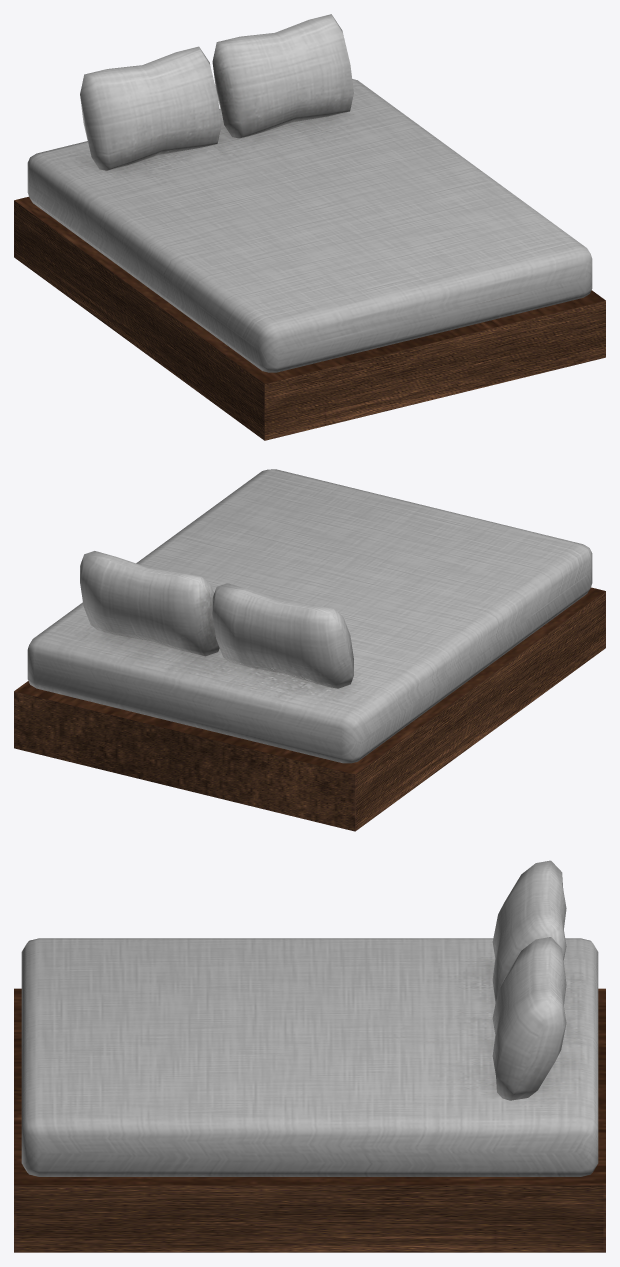
The model's file is bed.fbx.
3 views of the same model, one above another, from view 1: azimuth 30°, elevation 25°; view 2: azimuth 150°, elevation 25°; view 3: azimuth 270°, elevation 25° (orthographic). The views are drawn at different scales.
Parts seen in each view (by area): view 1: Bed; view 2: Bed; view 3: Bed.
Part boxes in pixels (x1,y1,x2,y2): Bed: (14,14,605,440); Bed: (14,469,605,831); Bed: (14,860,605,1252).
Bounding box in the file's own units: 554 × 292 × 705.
1 material, 1 textured.
